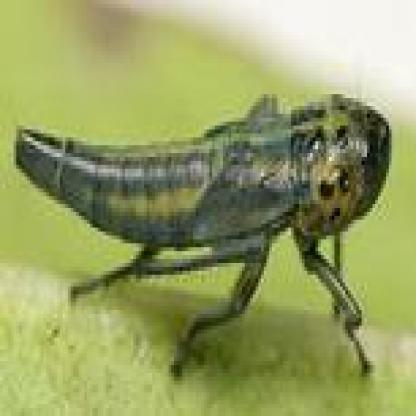Green-Leafhopper: (12, 82, 394, 383)
